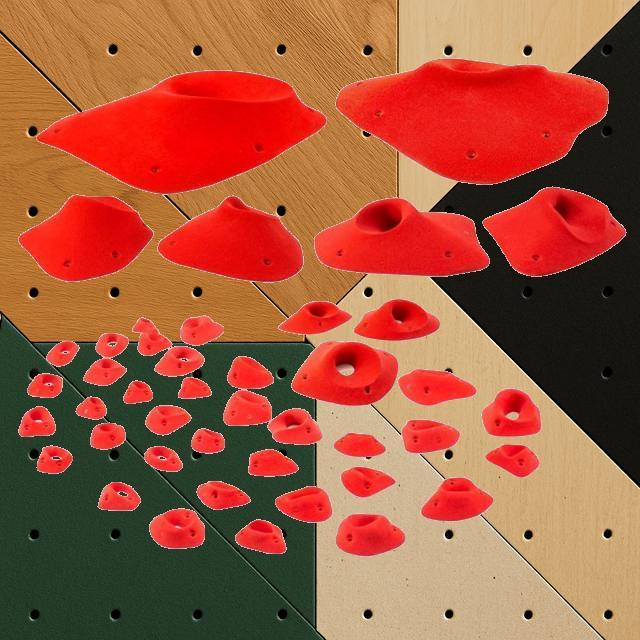Pocket: (35, 68, 327, 194), (334, 56, 610, 184), (314, 196, 490, 276), (482, 184, 626, 276), (157, 194, 303, 282), (18, 193, 152, 281), (290, 339, 398, 405), (355, 299, 441, 341), (420, 477, 494, 521), (399, 368, 477, 406), (336, 514, 406, 556), (484, 388, 540, 436), (279, 302, 351, 334), (274, 486, 332, 522), (150, 510, 204, 548), (269, 408, 323, 444), (402, 420, 460, 452), (236, 520, 286, 554), (487, 444, 539, 476), (224, 391, 272, 425), (342, 467, 396, 497), (227, 357, 273, 389), (156, 347, 204, 377), (198, 481, 248, 509), (179, 316, 223, 346), (248, 450, 298, 476), (146, 406, 192, 434), (334, 433, 386, 457), (99, 482, 140, 510), (84, 359, 126, 385), (20, 407, 56, 437), (37, 446, 73, 474), (90, 423, 126, 449), (144, 446, 183, 470), (95, 332, 129, 358), (46, 340, 80, 366), (190, 428, 226, 452), (28, 374, 62, 398), (138, 332, 172, 356), (76, 396, 108, 419), (124, 381, 152, 404), (179, 378, 211, 398), (132, 318, 160, 337)
